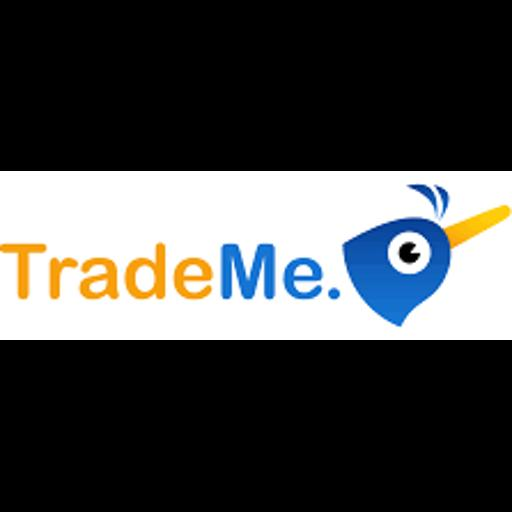Trade Me NZ: (0, 171, 512, 340)
